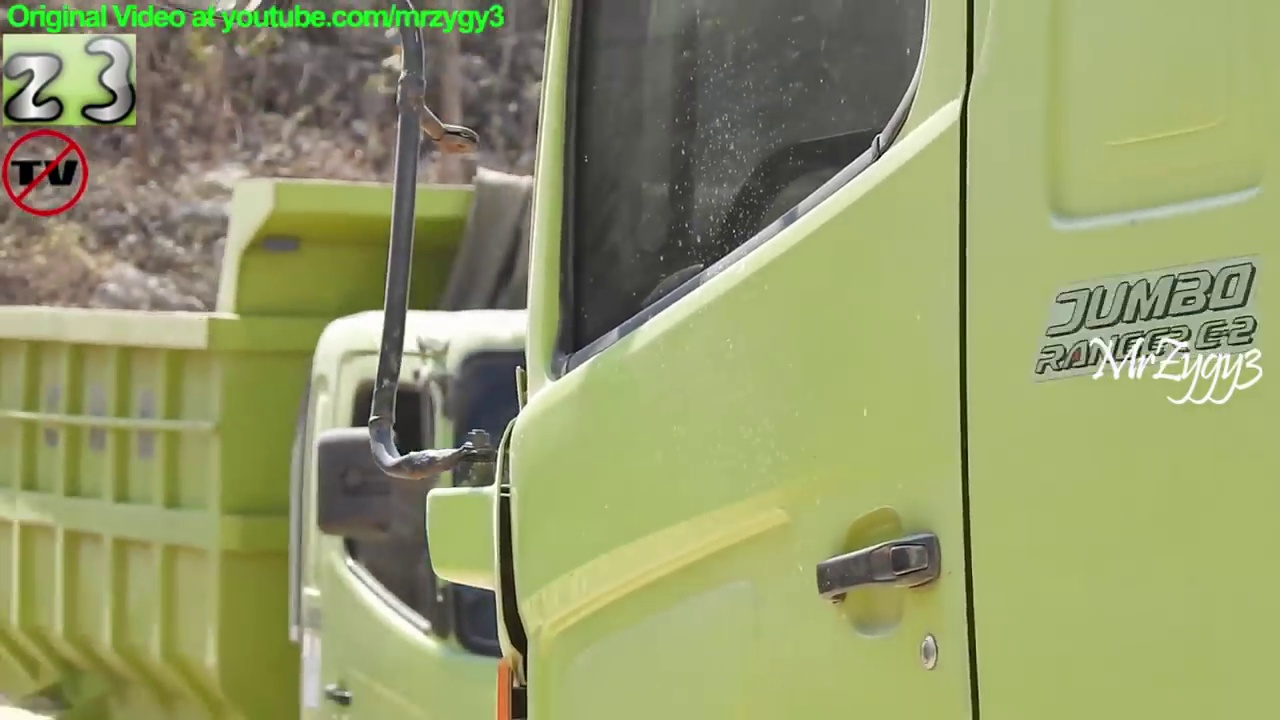truck: (131, 1, 1280, 714), (1, 168, 1127, 720)
